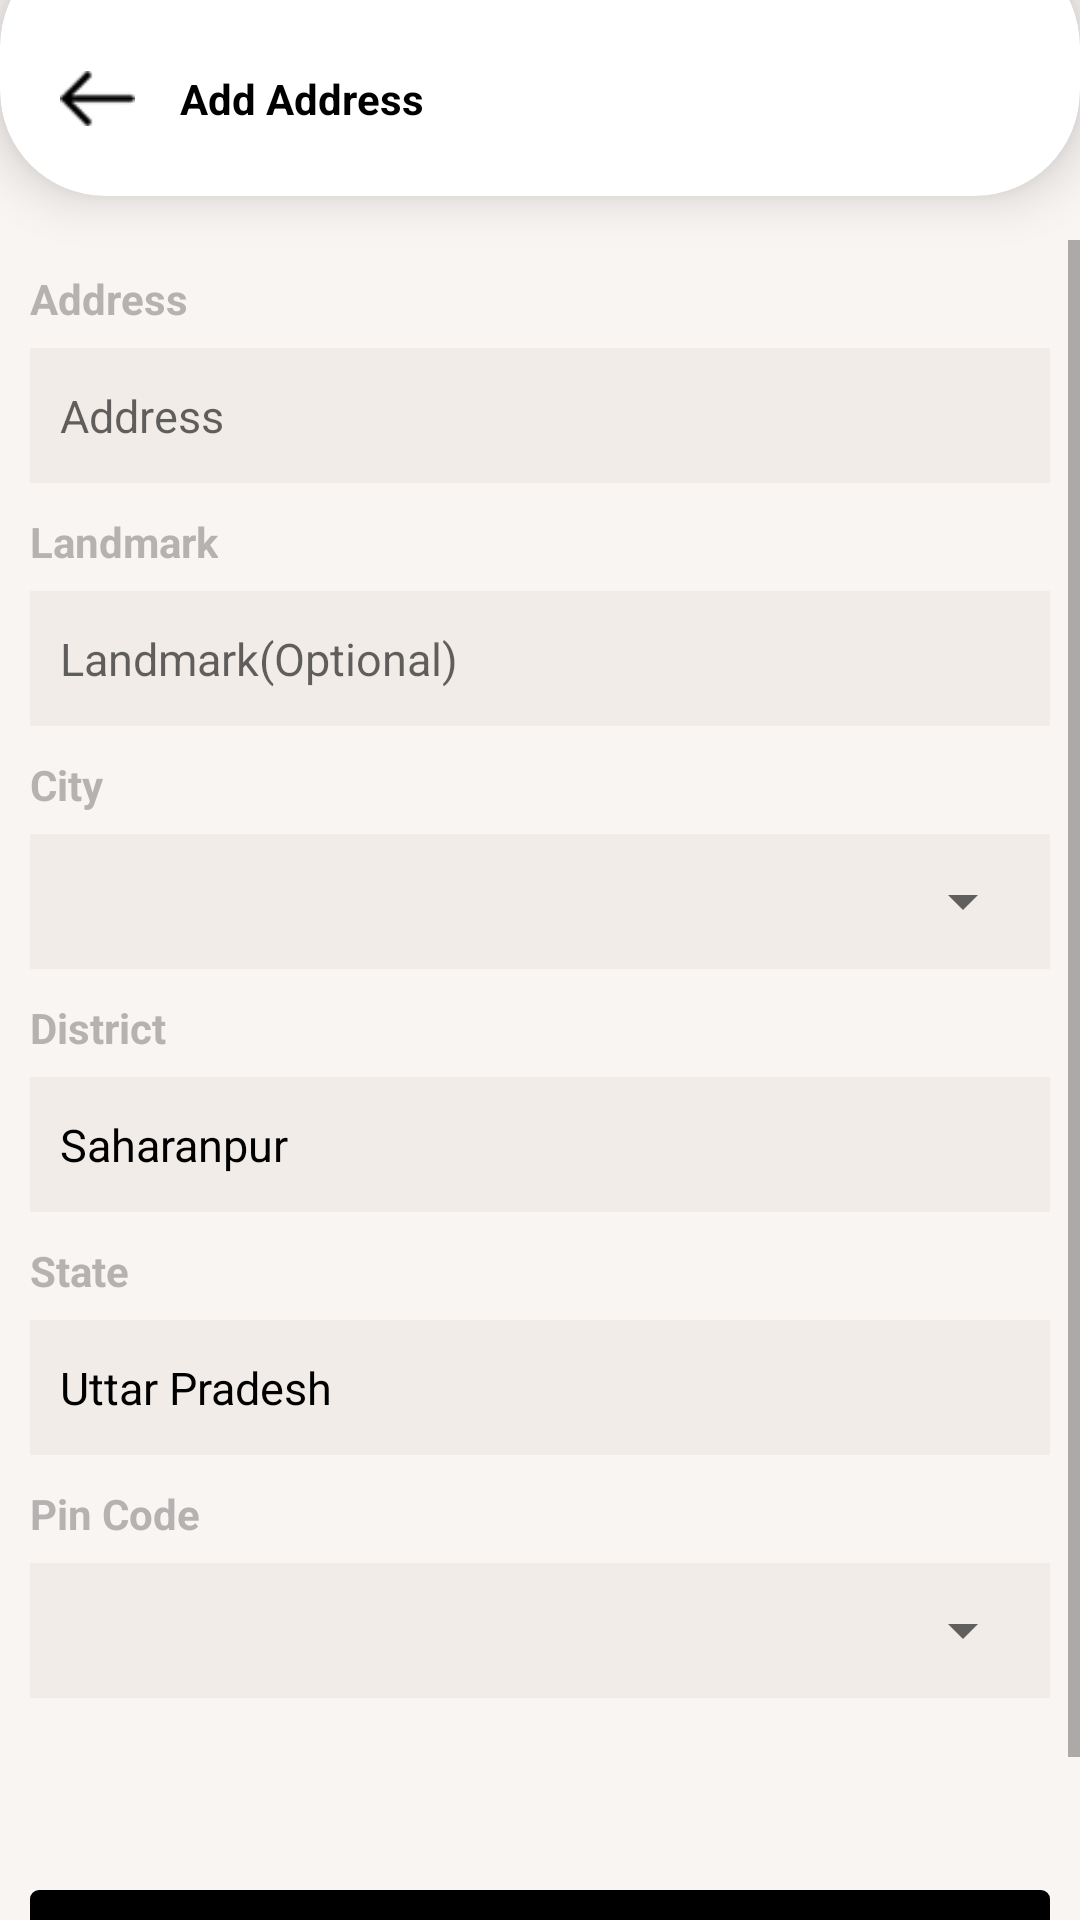

Icons on this 1080 x 1920 Android screen, each with the point to tap as (x=x, y=y):
back: (x=97, y=98)
